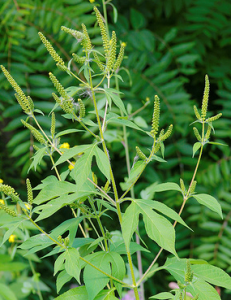Giant Ragweed: (81, 6, 130, 77), (43, 71, 87, 122), (1, 62, 35, 118), (143, 95, 173, 147), (190, 70, 222, 118)
